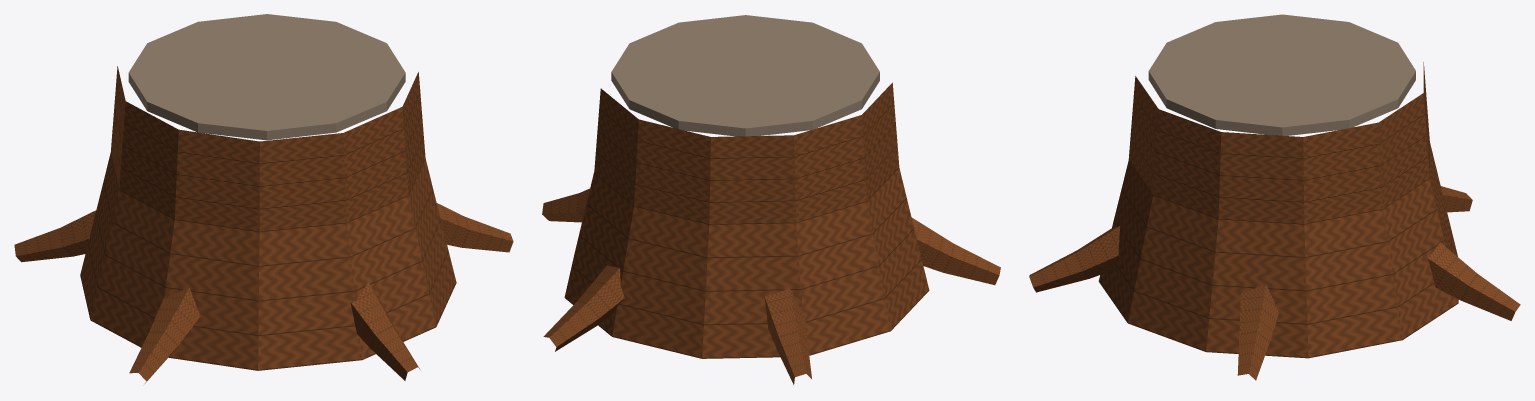
Rendered from stump_oak.glb.
3 views of the same model, side by side, from view 1: azimuth 30°, elevation 25°; view 2: azimuth 150°, elevation 25°; view 3: azimuth 270°, elevation 25° (orthographic). The views are drawn at different scales.
Visible parts, largest first — view 1: stump-oak; view 2: stump-oak; view 3: stump-oak.
Part boxes in pixels (x1,y1,x2,y2): stump-oak: (14, 14, 513, 383); stump-oak: (542, 15, 1000, 384); stump-oak: (1029, 14, 1520, 380).
Size of the model in its own units: 1.42 by 0.7015 by 1.47.
2 materials, 1 textured.
